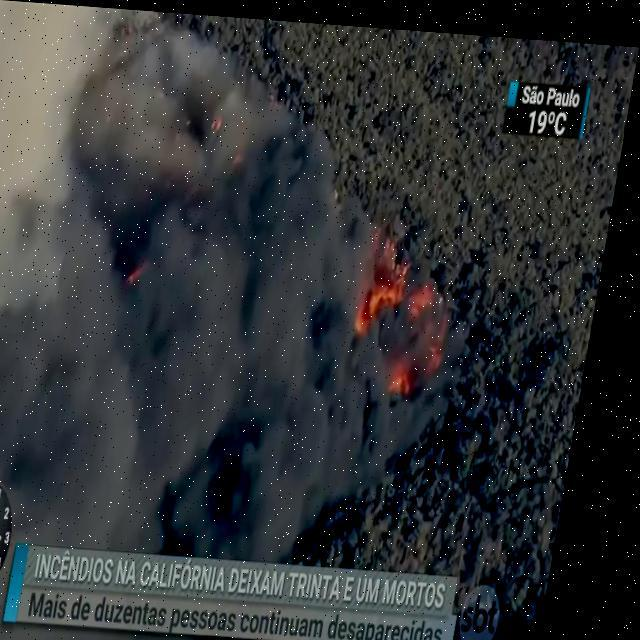Fire: (364, 225, 420, 328), (399, 350, 427, 386), (418, 274, 443, 310)
